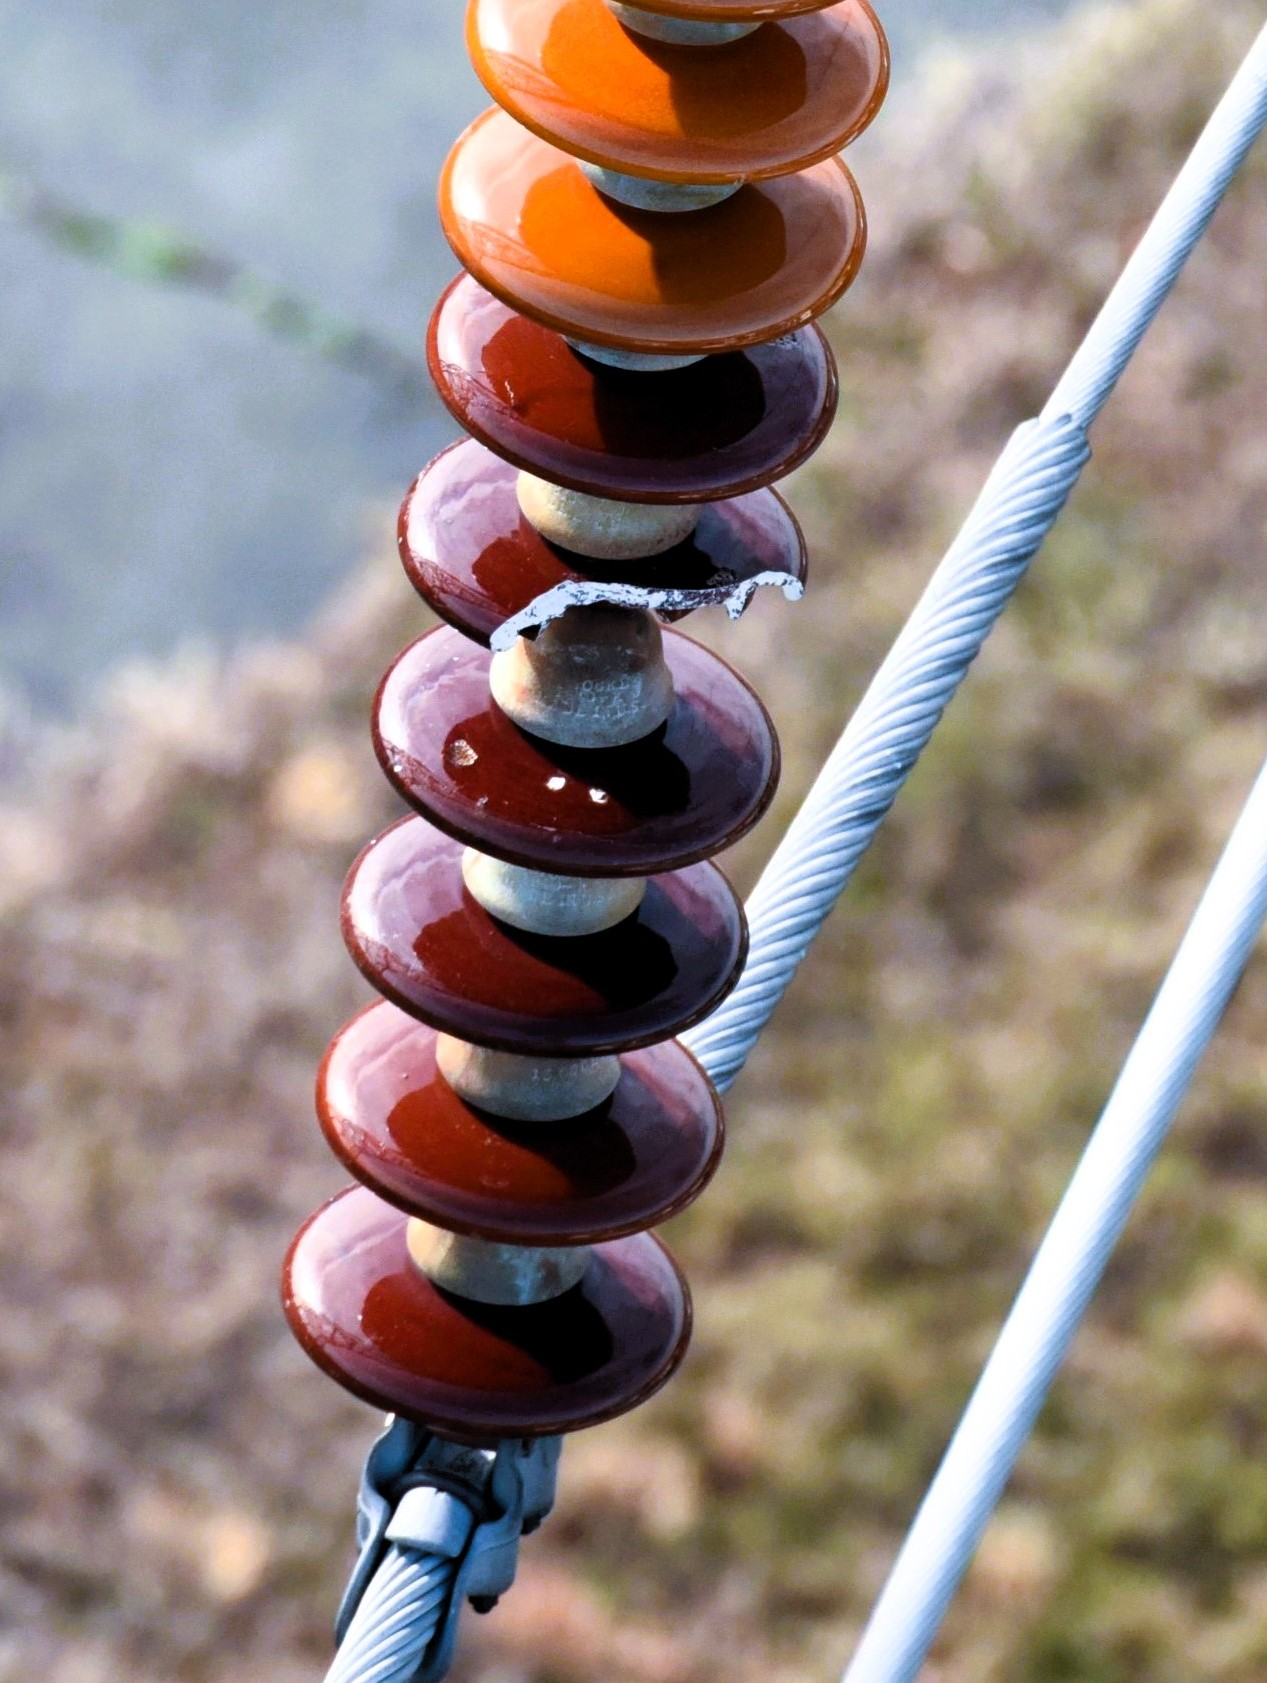insulator breakage: (393, 440, 818, 663)
